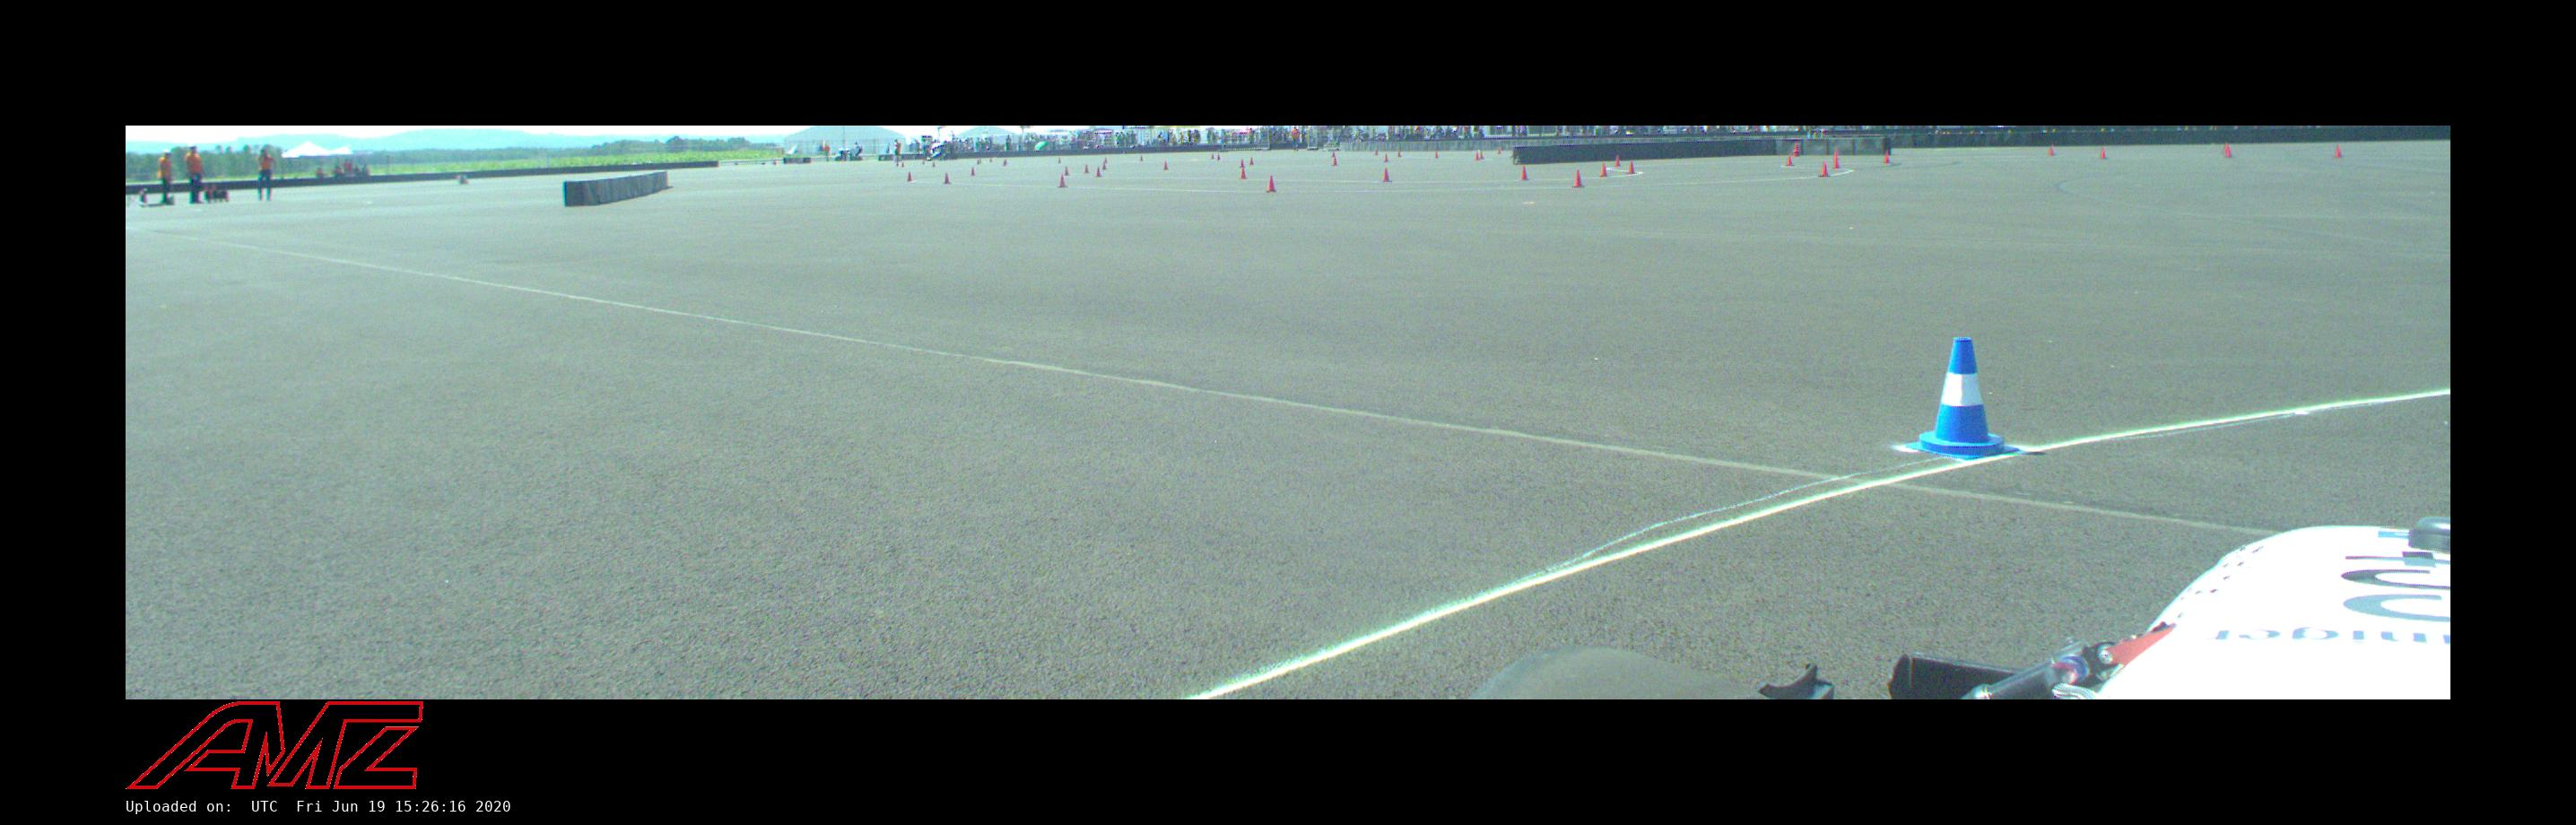blue_cone: (1906, 339, 2021, 460)
unknown_cone: (1572, 169, 1585, 187), (1817, 161, 1830, 177), (1265, 174, 1277, 192), (1518, 164, 1529, 181), (1625, 161, 1638, 174), (1056, 174, 1068, 189), (1832, 150, 1840, 169), (1235, 168, 1249, 179), (1881, 150, 1893, 163), (2096, 146, 2108, 159), (1599, 163, 1608, 177), (1382, 168, 1391, 182), (1782, 154, 1794, 166), (2333, 145, 2343, 158), (941, 173, 951, 184), (1613, 154, 1621, 166), (1160, 159, 1168, 171), (1094, 166, 1102, 177), (2047, 145, 2055, 156), (905, 171, 913, 181), (1331, 156, 1339, 166), (1382, 153, 1390, 163), (1081, 163, 1089, 173), (1247, 156, 1255, 164), (1137, 153, 1145, 161), (2226, 145, 2231, 158), (969, 166, 976, 176), (1474, 151, 1480, 161), (1237, 159, 1245, 166), (1433, 151, 1439, 158), (1216, 153, 1221, 161)
